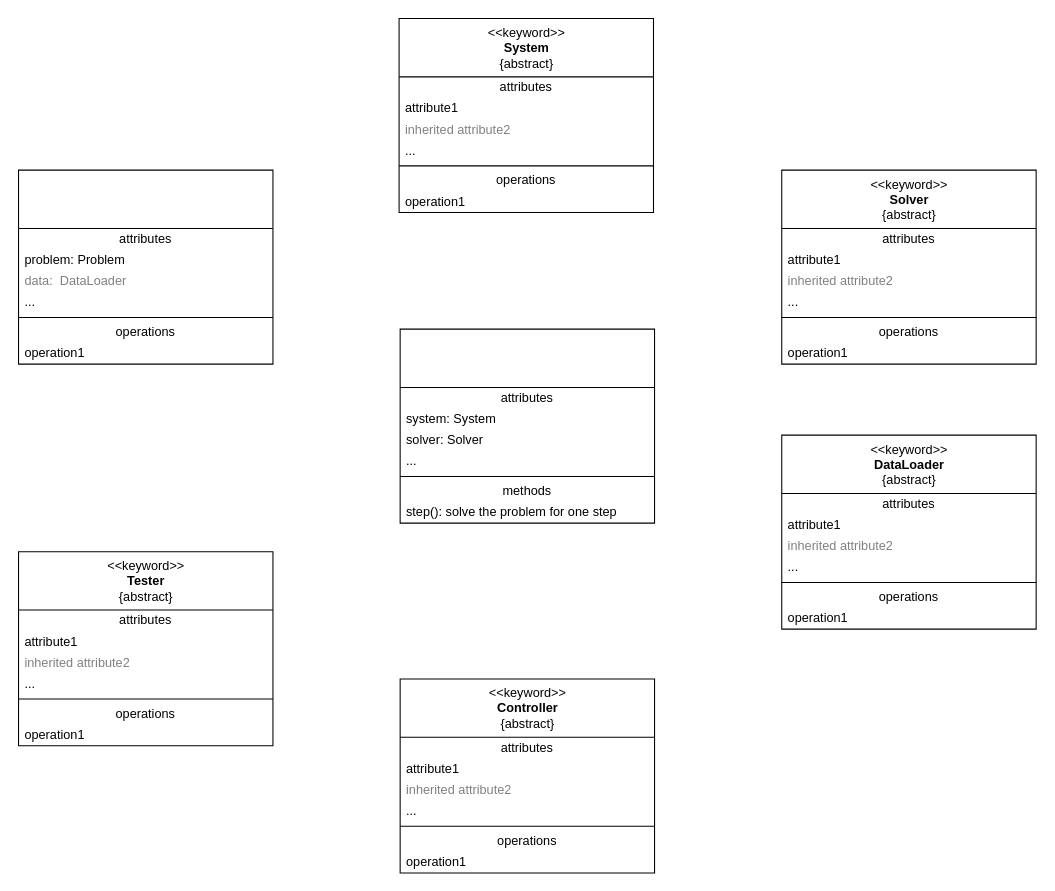
The diagram is 1055 pixels wide and 891 high, and some of its shapes have lost their labels. The shapes that lost their labels are listed below. From the top down, each one's box as (x1, y1, x2, y2) in pixels, then its label:
(17, 169, 273, 364): <<keyword>> Trainer {abstract}
(399, 328, 655, 523): ForwardProblem
